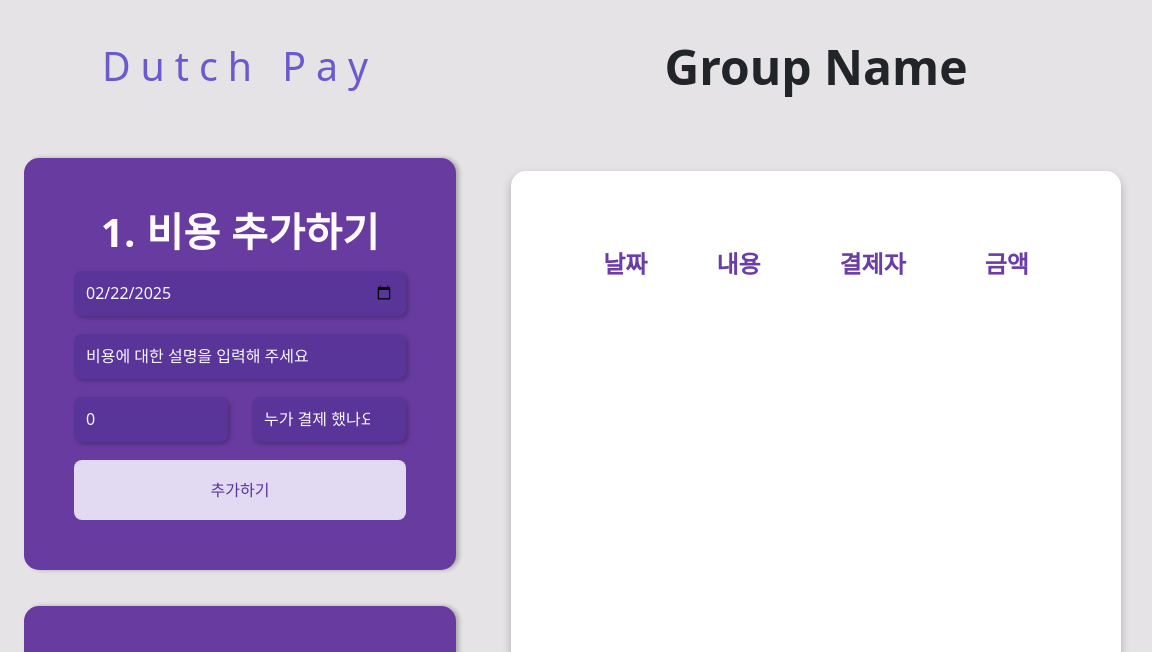
Test: 비용 정산 메인 페이지 › 새로운 비용이 입력되었을 때 › 정산 결과가 업데이트 된다
The width and height of the screenshot is (1152, 652).
Type "2022-10-10" into the date field with placeholder "결제한 날짜를 선택해 주세요" at x=240, y=293, box 74,270 -> 406,316
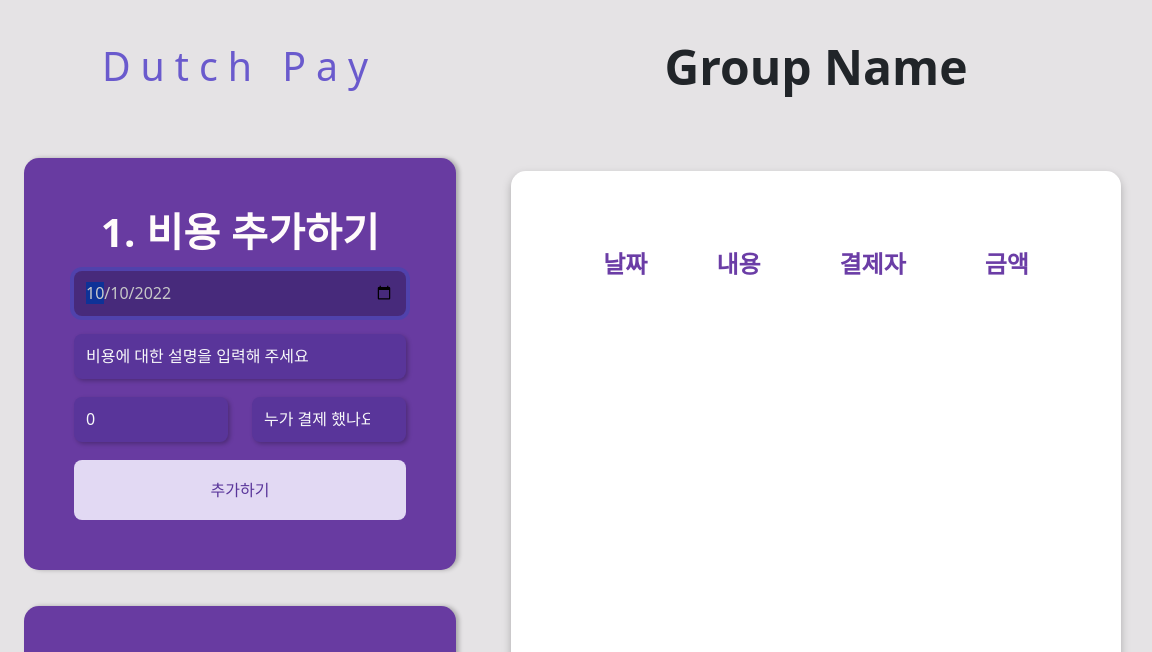
Type "장보기" into the field with placeholder "비용에 대한 설명을 입력해 주세요" at x=240, y=356, box 74,334 -> 406,378
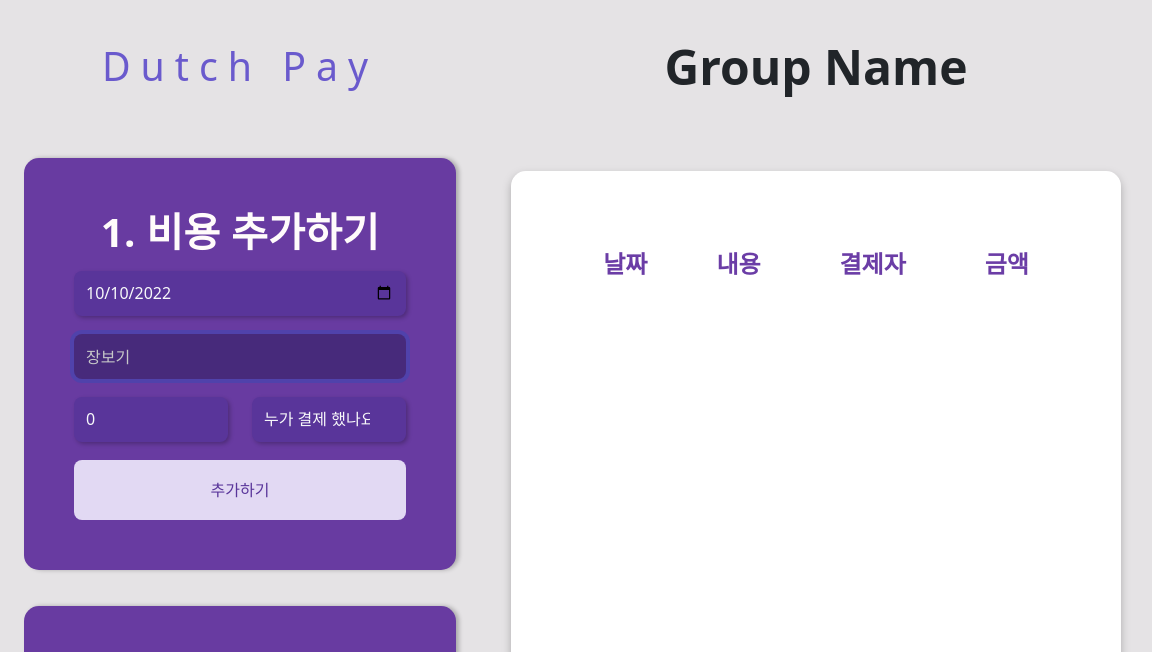
Type "30000" into the number field with placeholder "비용은 얼마였나요?" at x=151, y=419, box 74,396 -> 228,442
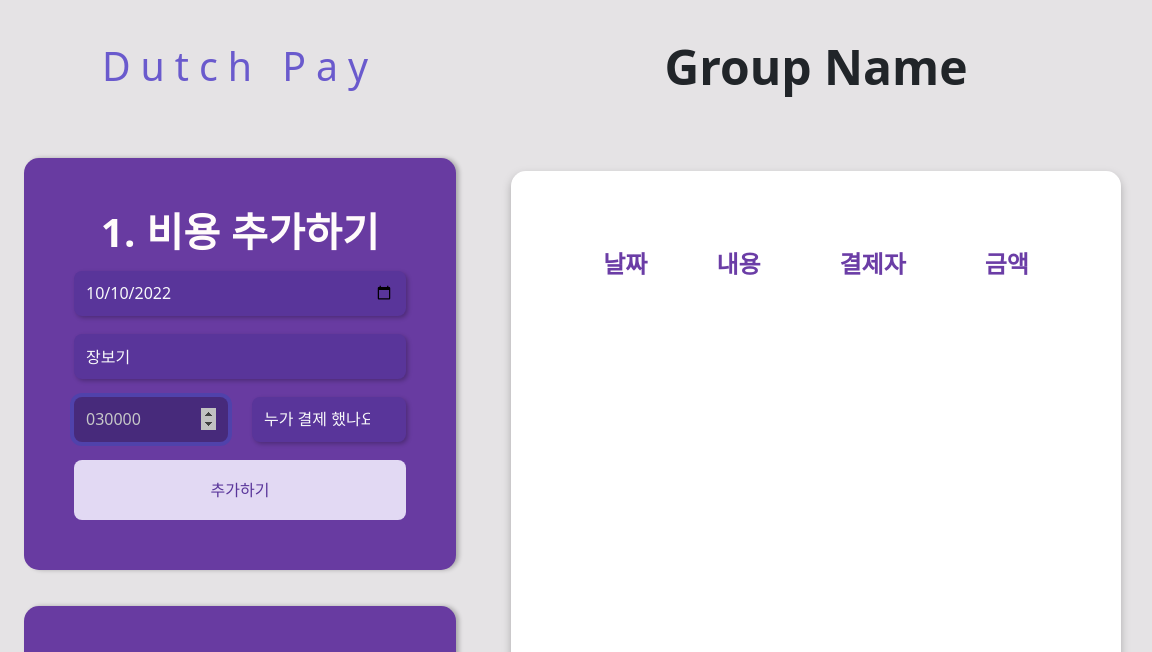
Select "영수" in the dropdown showing "누가 결제" at x=329, y=419, box 252,396 -> 406,442
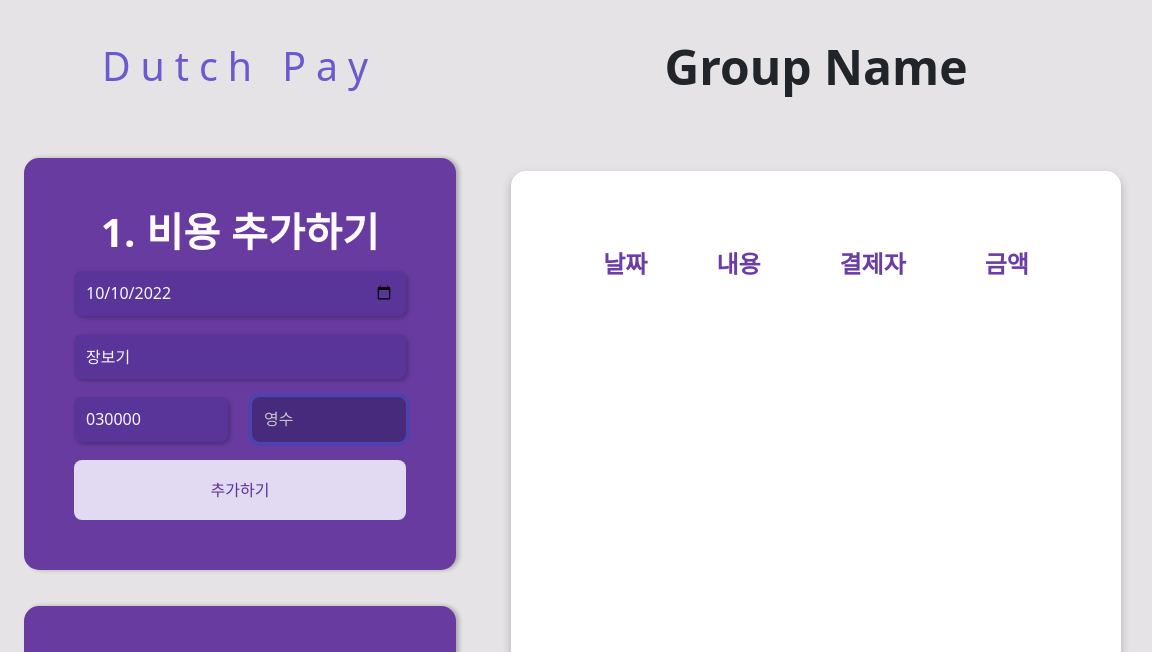
Click the button "추가하기" at x=240, y=490, box 74,460 -> 406,520
(page scrolled)
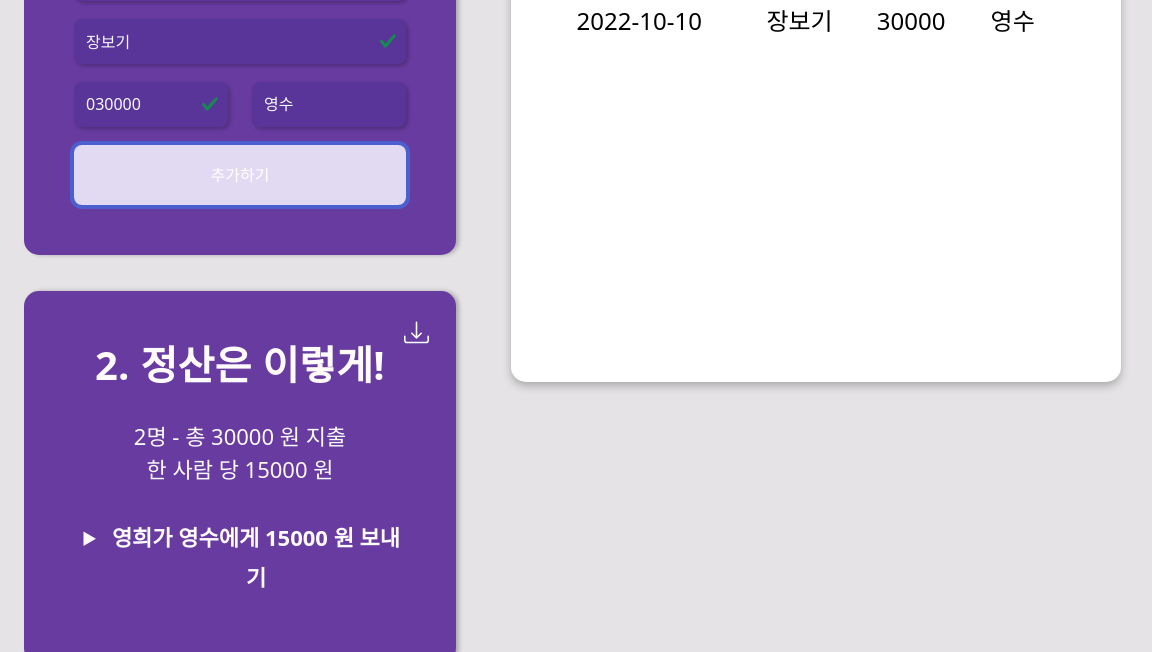
Expected: the text "2명 - 총 30000 원 지출" is shown, 134,420 -> 346,450
Expected: the text "영희가 영수에게 15000 원 보내기" is shown, 112,522 -> 400,592
